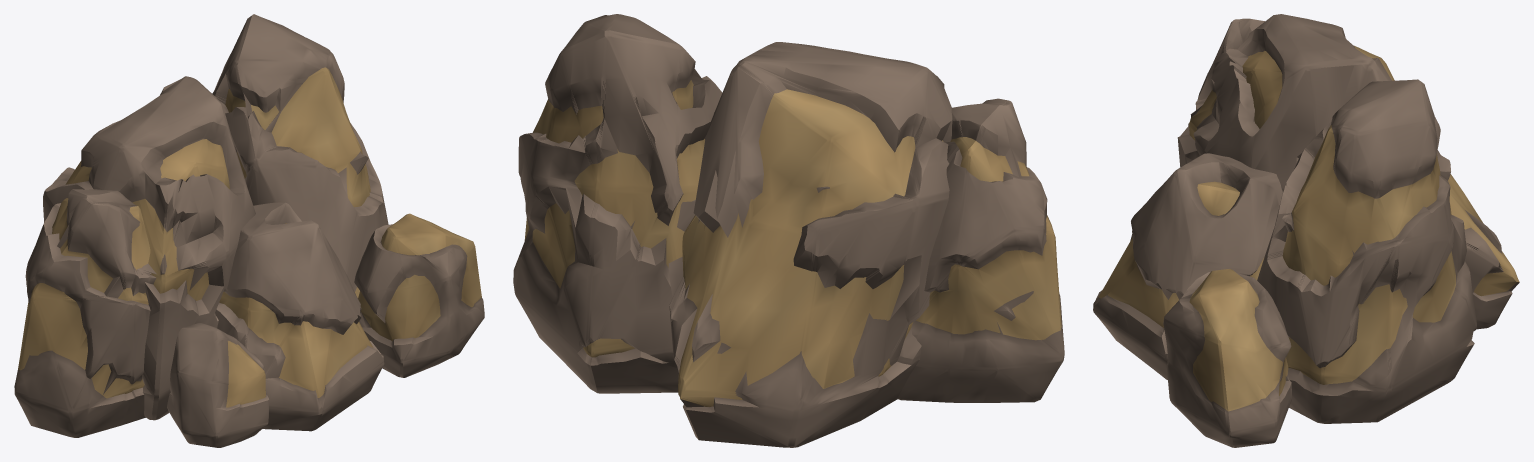
The model's file is corealm_ore_kilnstone.glb.
3 views of the same model, side by side, from view 1: azimuth 30°, elevation 25°; view 2: azimuth 150°, elevation 25°; view 3: azimuth 270°, elevation 25° (orthographic). The views are drawn at different scales.
Parts seen in each view (by area): view 1: corealm_ore_kilnstone; view 2: corealm_ore_kilnstone; view 3: corealm_ore_kilnstone.
Boxes of the visible parts, x1,y1,x2,y2 form: corealm_ore_kilnstone: [14, 14, 484, 447]; corealm_ore_kilnstone: [513, 14, 1064, 447]; corealm_ore_kilnstone: [1093, 14, 1519, 447].
Bounding box in the file's own units: 1.48 × 0.91 × 1.16.
